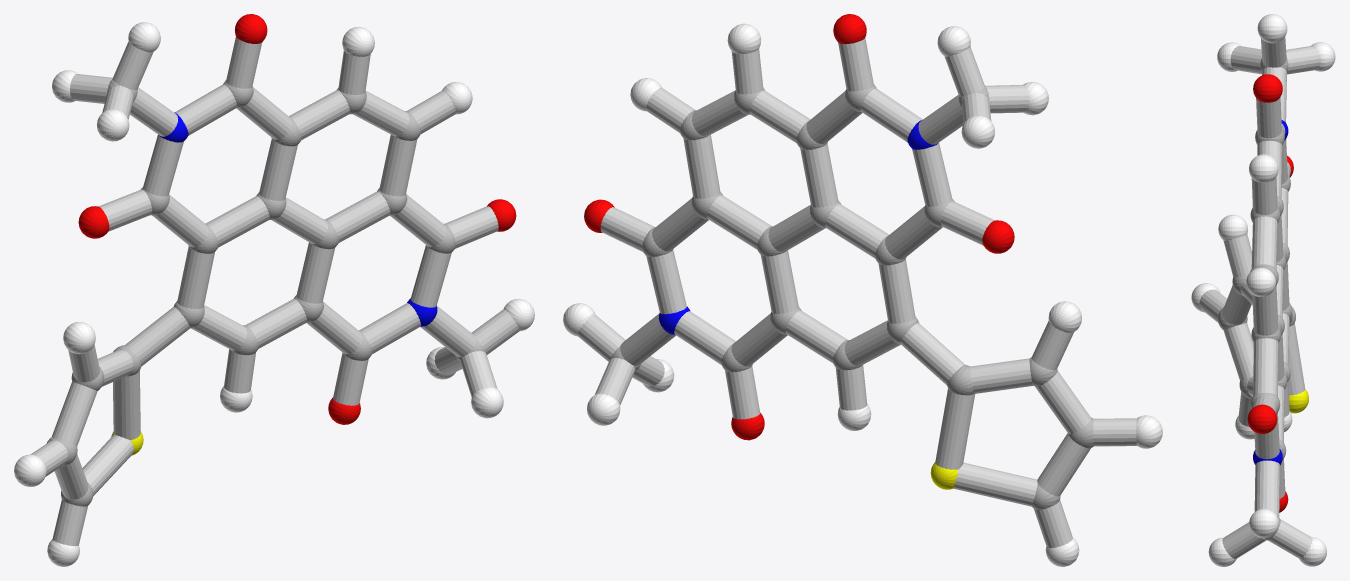
File: Dimethyl_Naphthalene_Dicarboximide_Phi_25_Theta_340_Thiophene.glb
3 views of the same model, side by side, from view 1: azimuth 30°, elevation 25°; view 2: azimuth 150°, elevation 25°; view 3: azimuth 270°, elevation 25° (orthographic). The views are drawn at different scales.
Visible parts, largest first — view 1: grp14119, grp7241, grp1, grp12309, grp11585; view 2: grp14119, grp7241, grp1, grp12309, grp11585; view 3: grp14119, grp7241, grp1, grp12309, grp13757, grp11585.
Boxes of the visible parts, bbox=[...] form: grp14119: bbox=[30, 37, 519, 546]; grp7241: bbox=[14, 22, 534, 566]; grp1: bbox=[46, 79, 484, 506]; grp12309: bbox=[78, 14, 516, 424]; grp11585: bbox=[159, 112, 437, 326]; grp14119: bbox=[577, 38, 1136, 547]; grp7241: bbox=[563, 23, 1162, 566]; grp1: bbox=[610, 84, 1093, 509]; grp12309: bbox=[584, 14, 1014, 440]; grp11585: bbox=[658, 120, 938, 334]; grp14119: bbox=[1199, 36, 1320, 558]; grp7241: bbox=[1191, 14, 1335, 566]; grp1: bbox=[1218, 57, 1295, 540]; grp12309: bbox=[1247, 74, 1293, 512]; grp13757: bbox=[1289, 389, 1308, 413]; grp11585: bbox=[1253, 120, 1288, 465].
Bounding box in the file's own units: 11.61 × 10.33 × 2.9.
